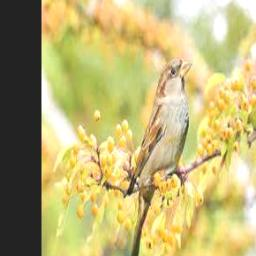Sparrow: (127, 57, 192, 256)
